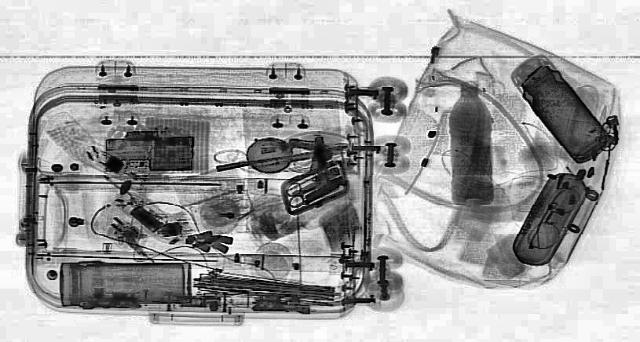Scissors: (268, 173, 340, 207)
